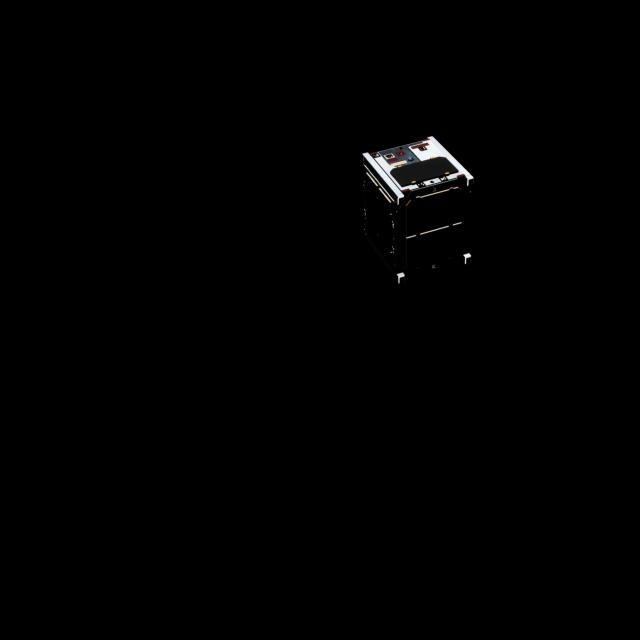satellite: (359, 139, 511, 315)
